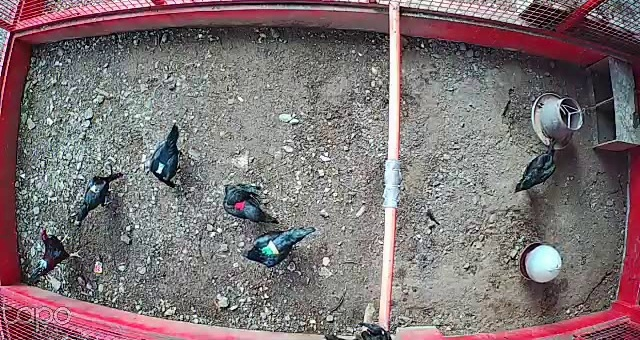Chicken: (68, 166, 128, 225), (243, 223, 318, 268), (216, 176, 277, 230), (514, 134, 563, 192), (148, 125, 183, 189)
Rooster: (23, 224, 85, 283)
Saddle_Color_Red: (236, 200, 245, 210)
Saddle_Color_White: (155, 167, 163, 173)
Saddle_Color_YellowGreen: (261, 239, 280, 257)
